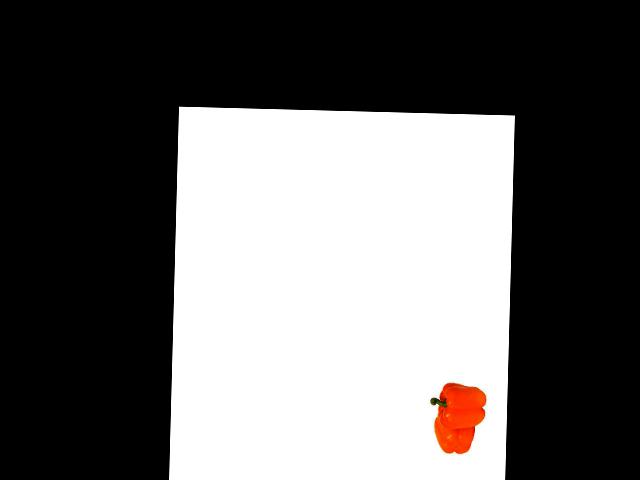bell_pepper: (431, 412, 480, 457)
